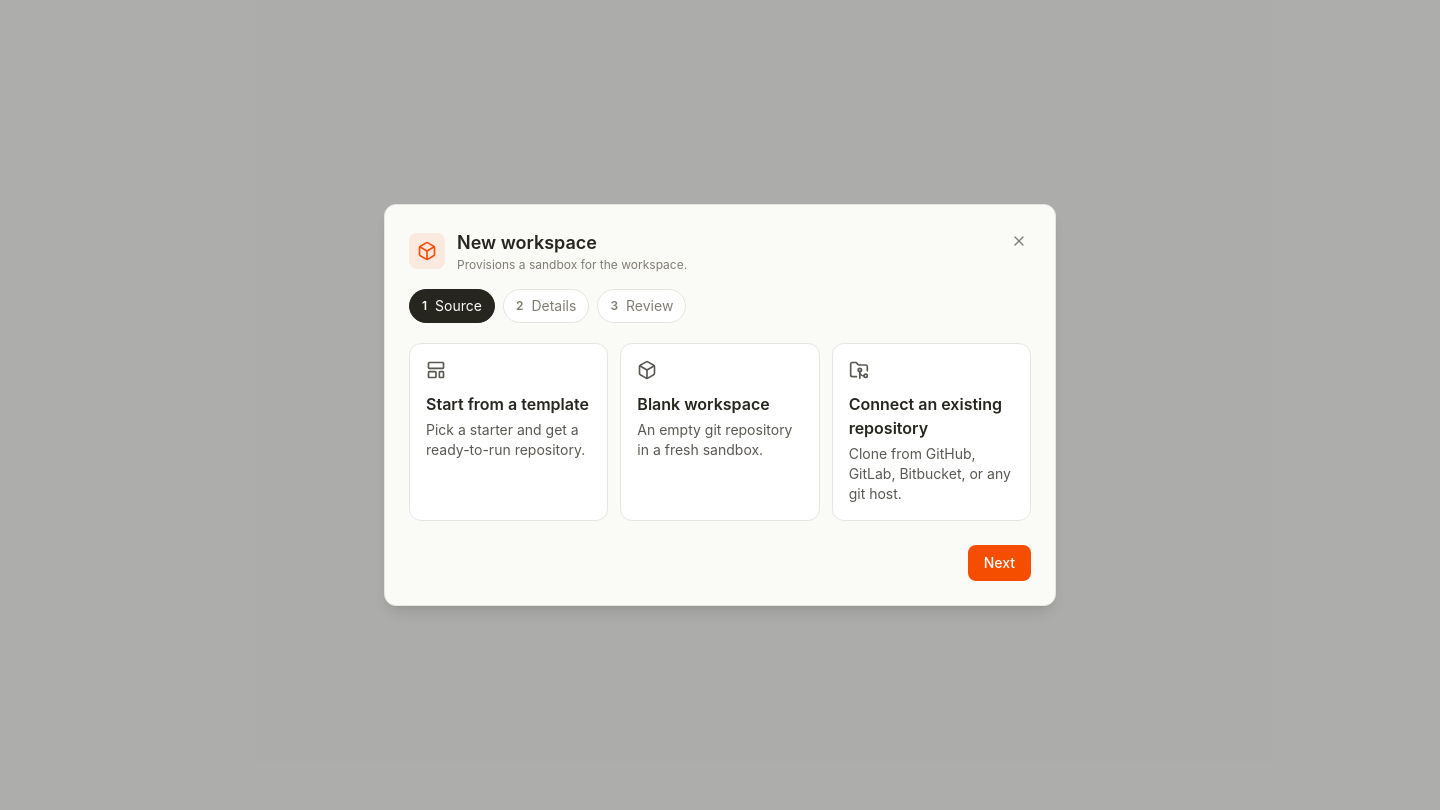
Scenario: CreateWorkspaceWizard › runtime picker › blocks creation when neither runtime is available
Click the radio button labelled "Blank workspace An empty git repository in a fresh sandbox.". click: x=720, y=432
box: x1=620 y1=343 x2=820 y2=521
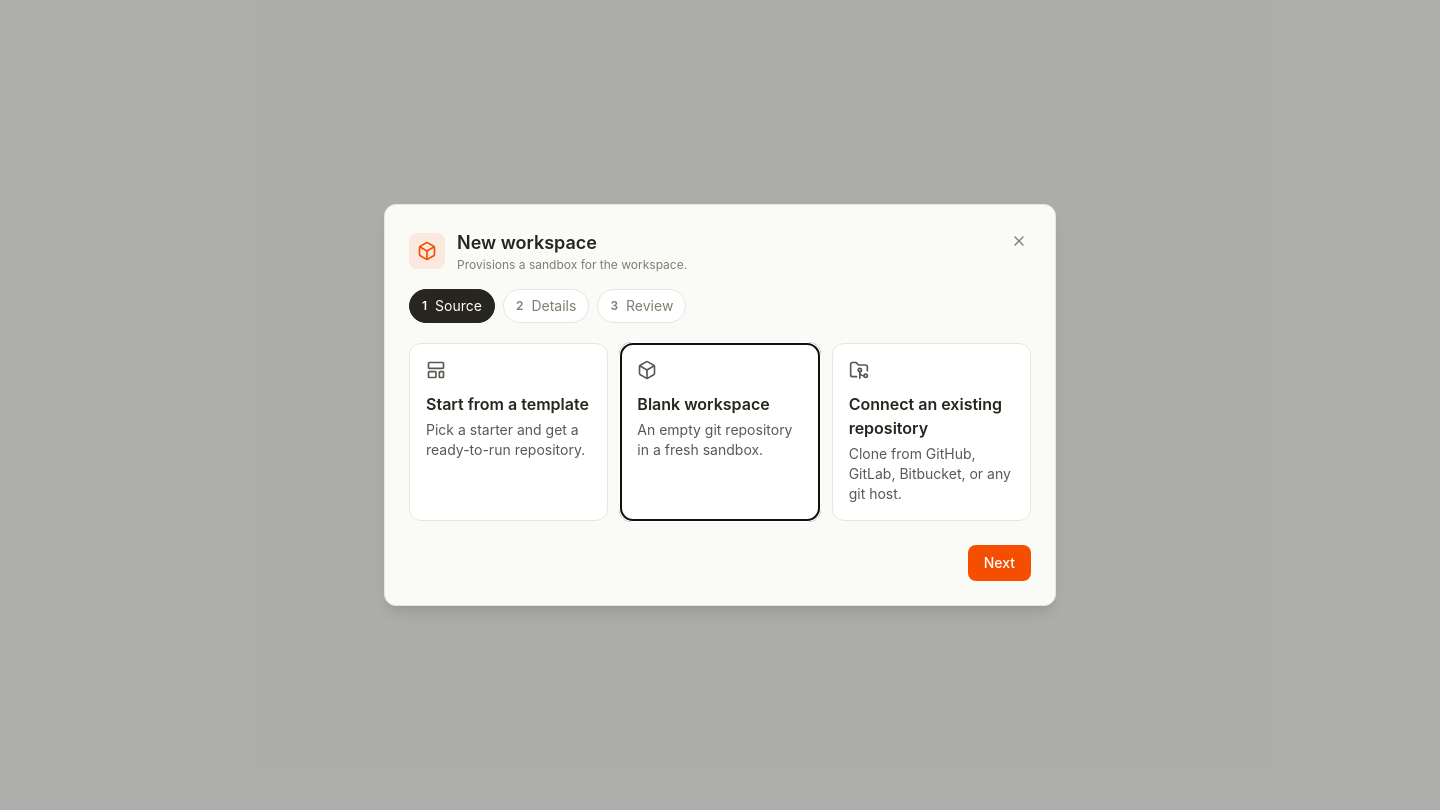
Click the button "Next". click: x=999, y=563
box: x1=968 y1=545 x2=1031 y2=581
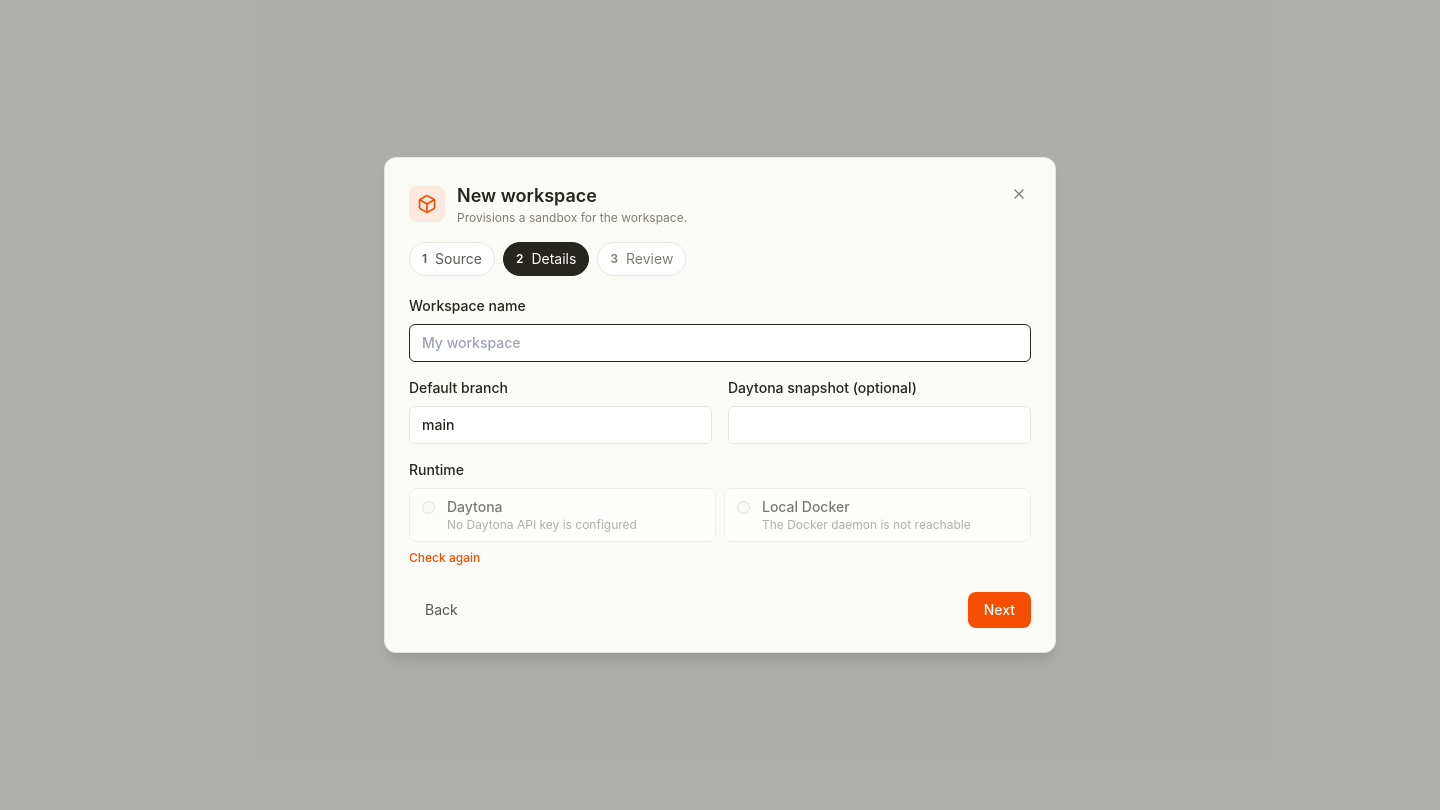
Type "Scratch" into the field labelled "Workspace name". click: x=720, y=343
box: x1=409 y1=324 x2=1031 y2=362
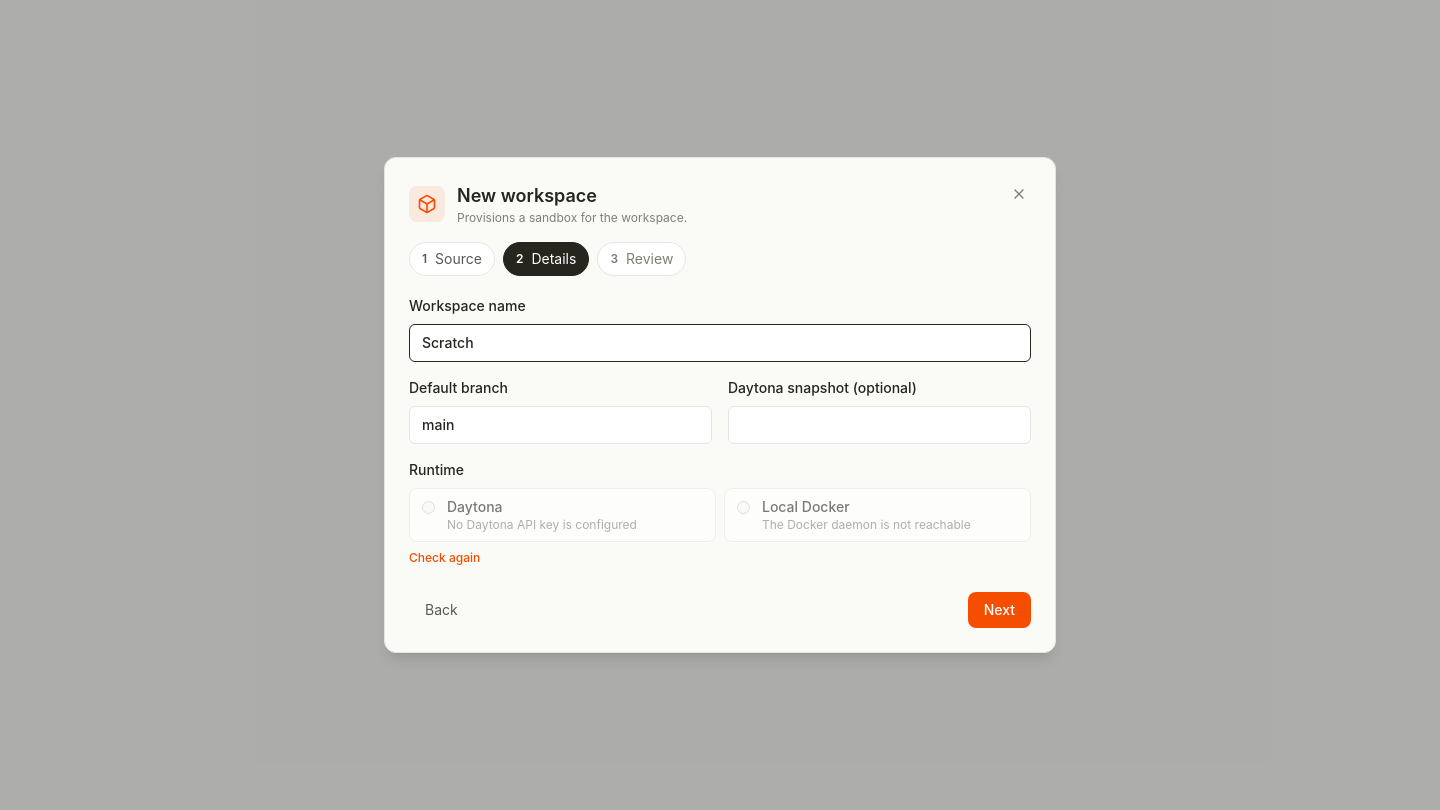
Now the text "The Docker daemon is not reachable" is shown, box x1=762 y1=517 x2=971 y2=533
Click the button "Next". click: x=999, y=610
box: x1=968 y1=592 x2=1031 y2=628
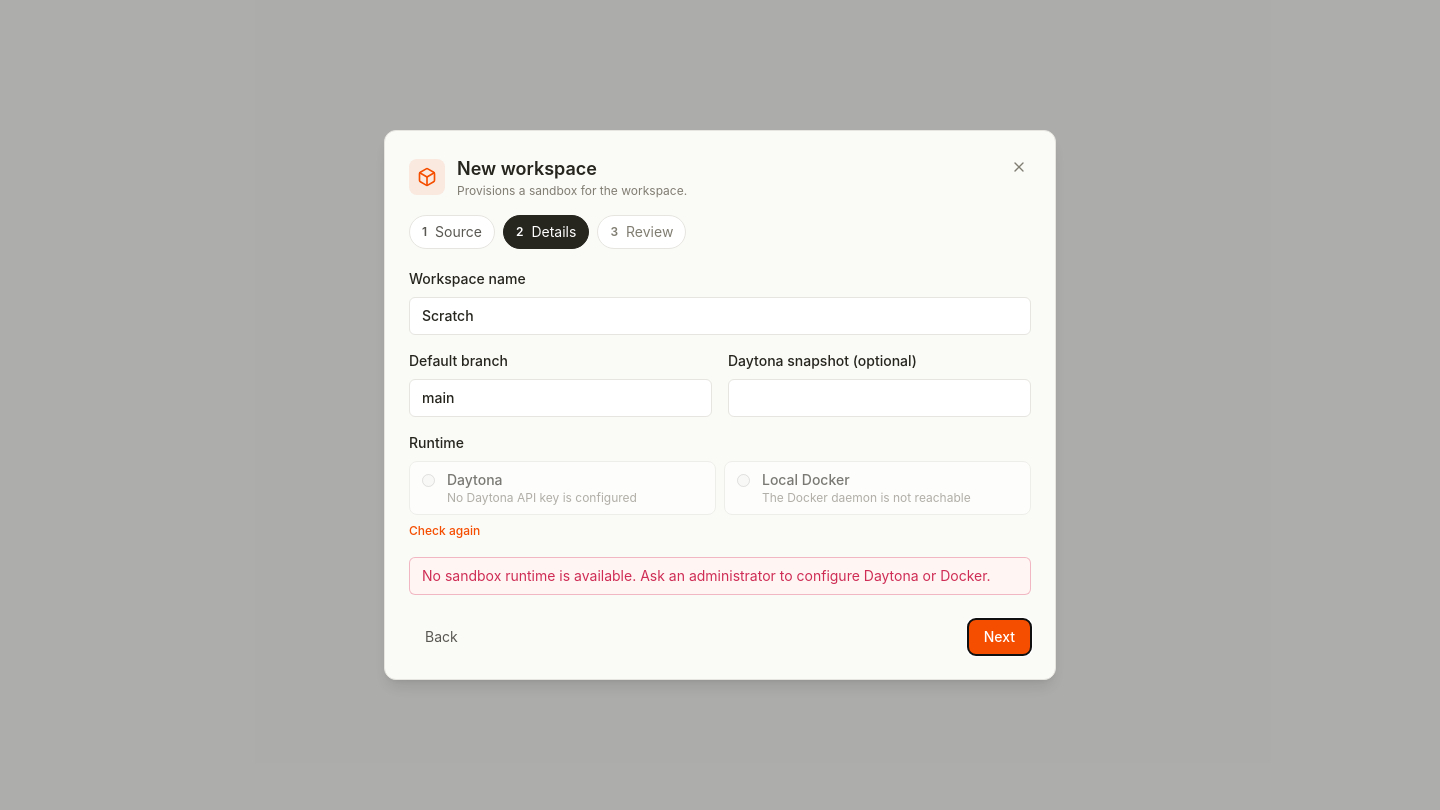
Now the text "No sandbox runtime is available" is shown, box x1=422 y1=567 x2=991 y2=584
